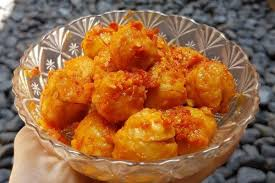bakso: (34, 16, 251, 171)
